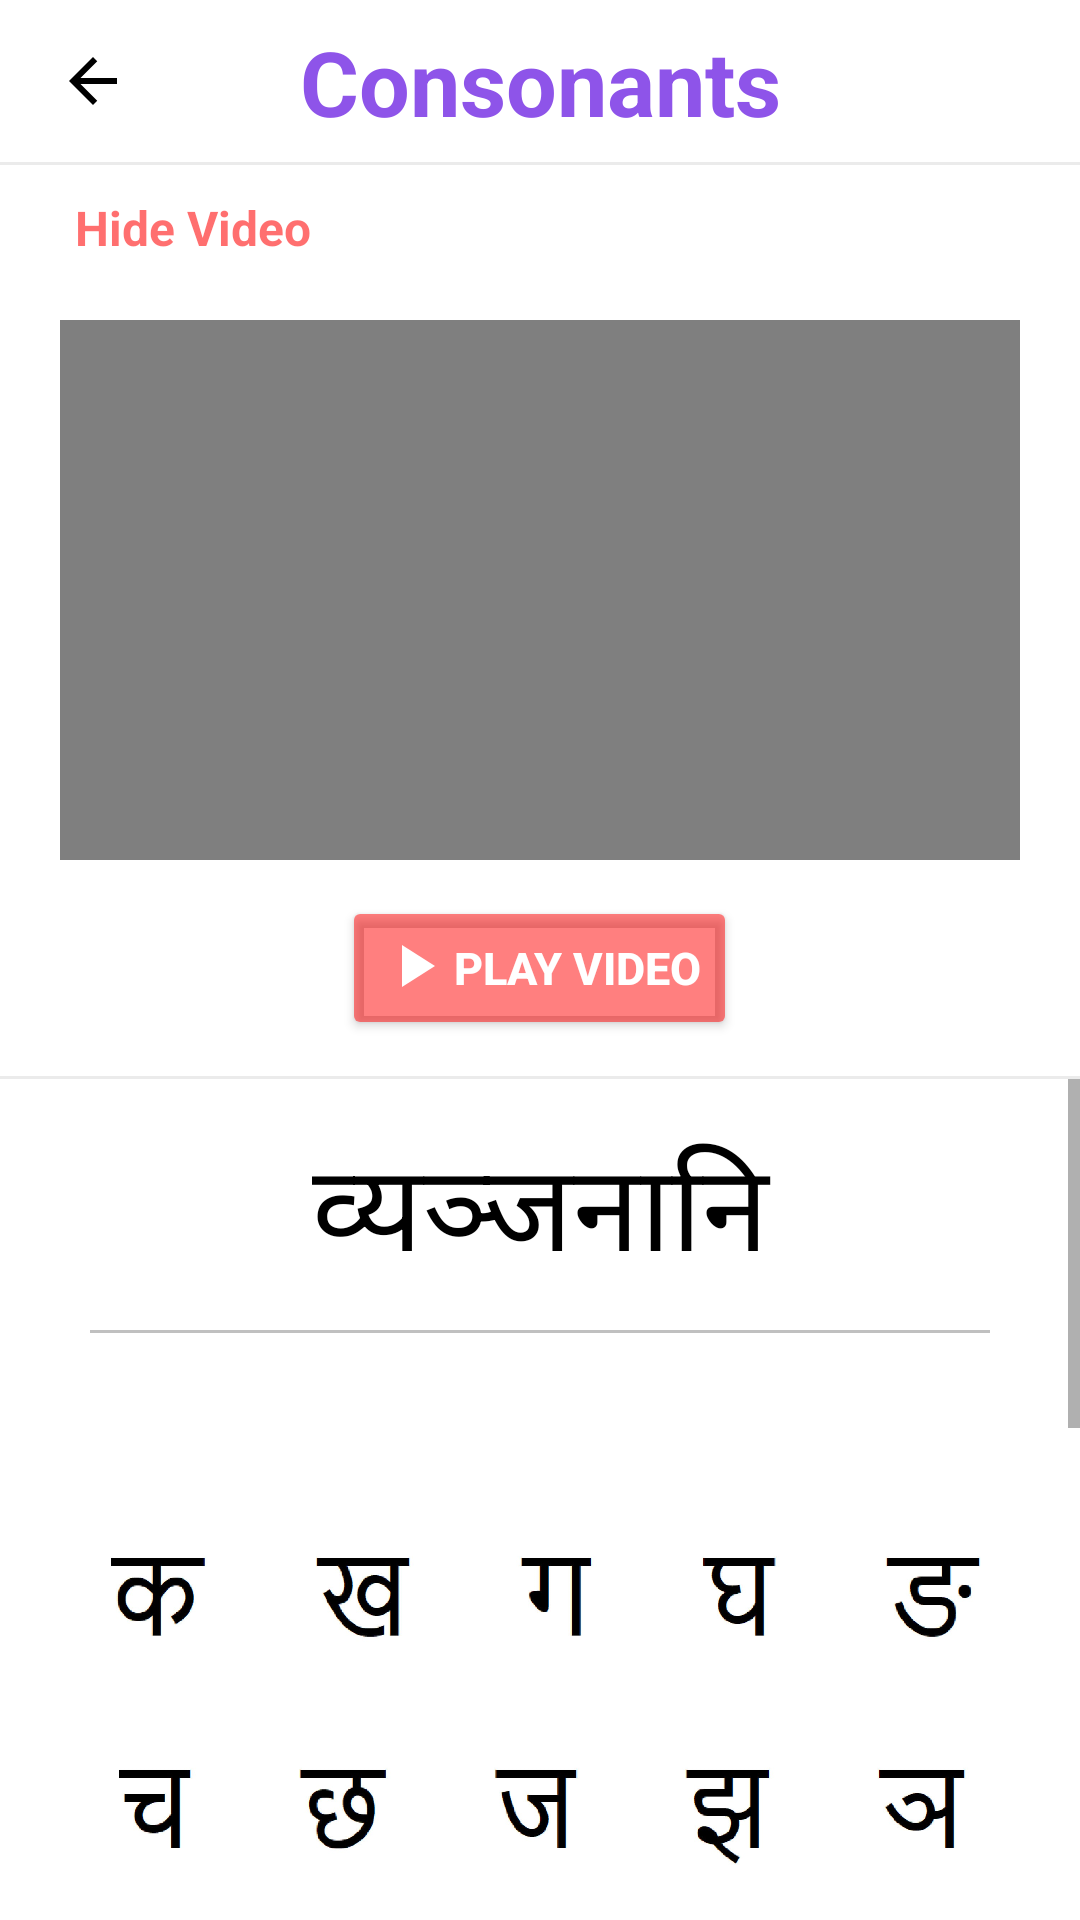

Where icons sit on this 1080px×1920px app screen, as (x1, y1, x2, y2):
arrow: (69, 57, 117, 105)
